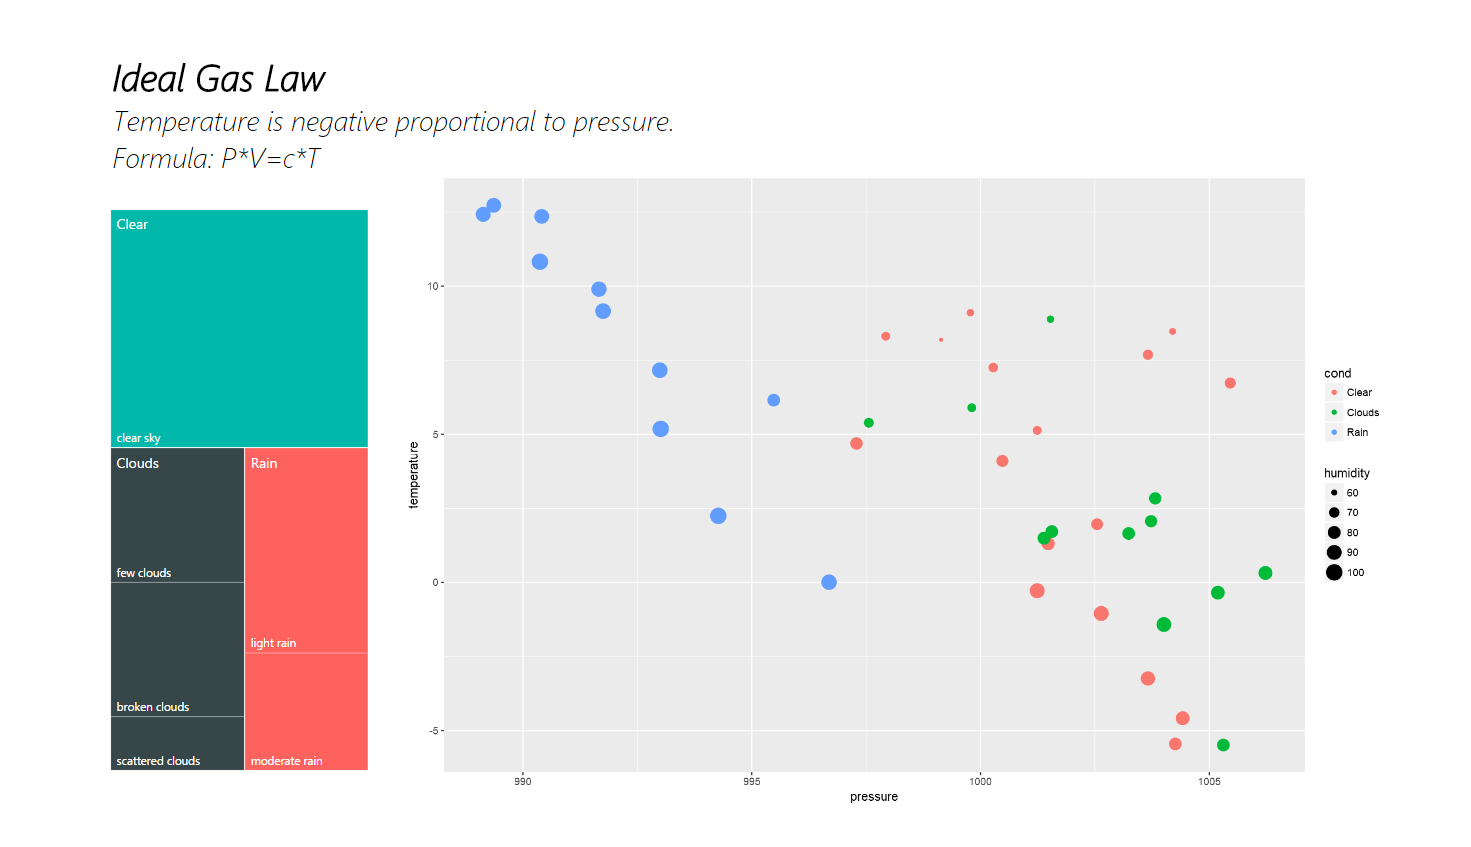

What the dashboard file says about the page in this screenshot:
{"tool":"powerbi","page":{"name":"r script test","canvas":[1280,720],"ordinal":2},"visuals":[{"type":"scriptVisual","fields":{"Values":["weatherData.cond","weatherData.ground_level","weatherData.humidity","weatherData.pressure","weatherData.sea_level","weatherData.temperature","weatherData.wind_degree","weatherData.wind_speed"]},"box":[347.9,128.8,866.4,579],"z":1},{"type":"textbox","box":[97.7,25.1,547.1,134.8],"z":2},{"type":"treemap","fields":{"Group":["weatherData.cond"],"Details":["weatherData.condition"],"Values":["CountNonNull(weatherData.condition)"]},"box":[96,162.9,232.3,493.7],"z":6}]}

Visuals, with their boxes in screenshot pixels (x1, y1, x2, y2), scaled from the page's 1280x720 canvas onto the 1471x847 screenshot:
scriptVisual - weatherData.cond x weatherData.ground_level: [400, 152, 1395, 833]
textbox: [112, 30, 741, 188]
treemap - weatherData.cond x weatherData.condition: [110, 192, 377, 772]
